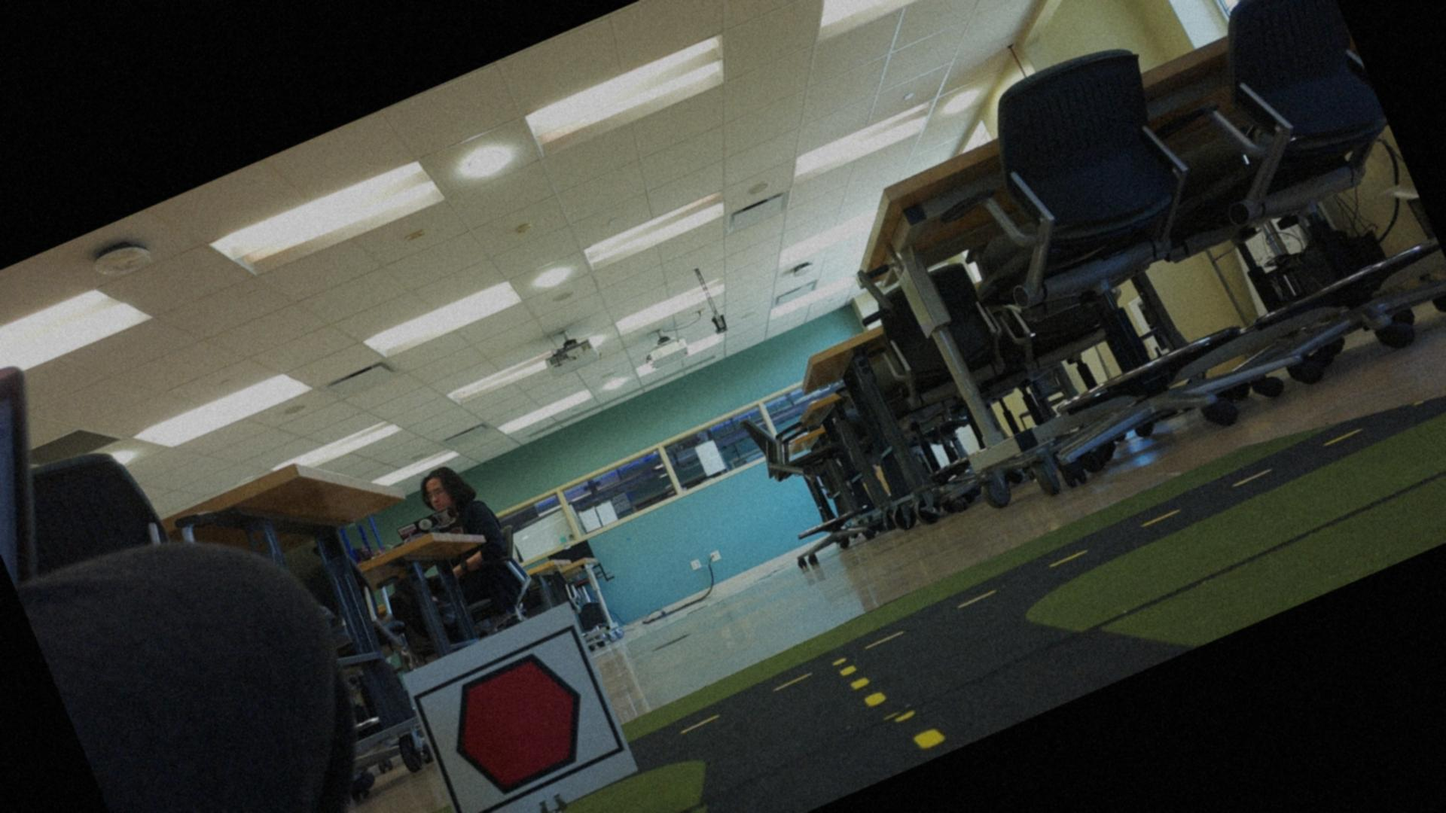stop: (419, 632, 617, 812)
yellowline: (834, 633, 947, 773)
